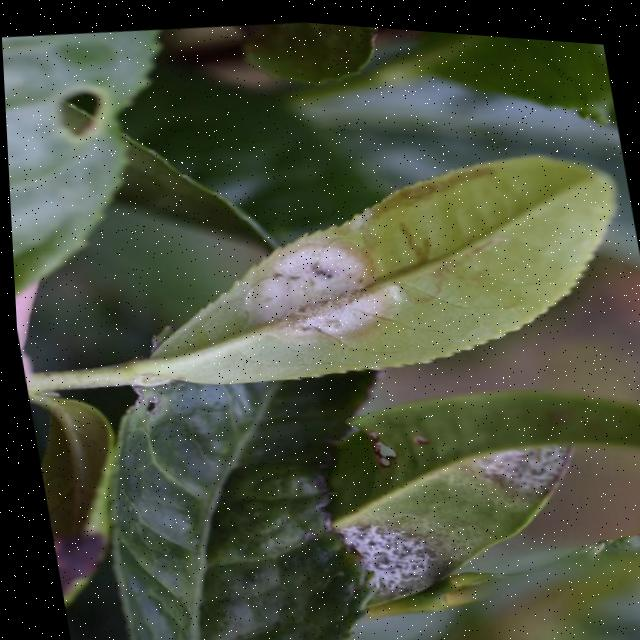Tea cake: (240, 225, 402, 354)
